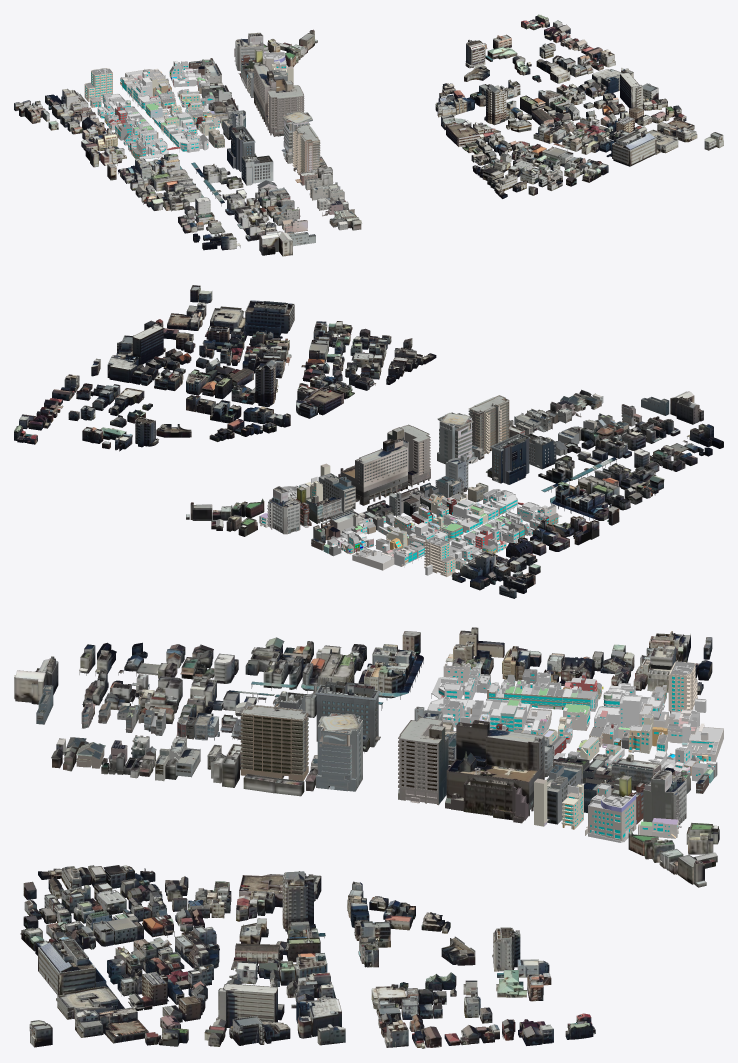
File: 2023-lod3-station-5-1-packed.glb
3 renders of one model, top to bottom at view 1: azimuth 30°, elevation 25°; view 2: azimuth 150°, elevation 25°; view 3: azimuth 270°, elevation 25°, orthographic. The views are drawn at different scales.
Size of the model in its own units: 616 by 57.5 by 466.
Materials: 26 (22 with a texture image).
